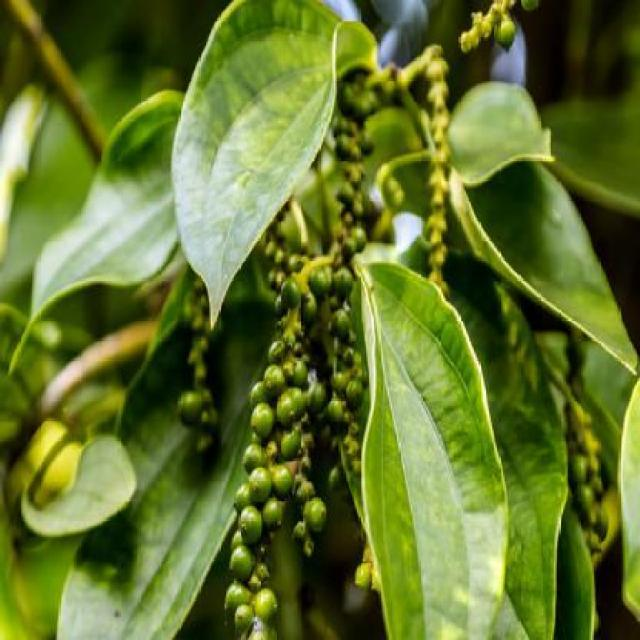UNRIPE: (223, 245, 352, 612)
